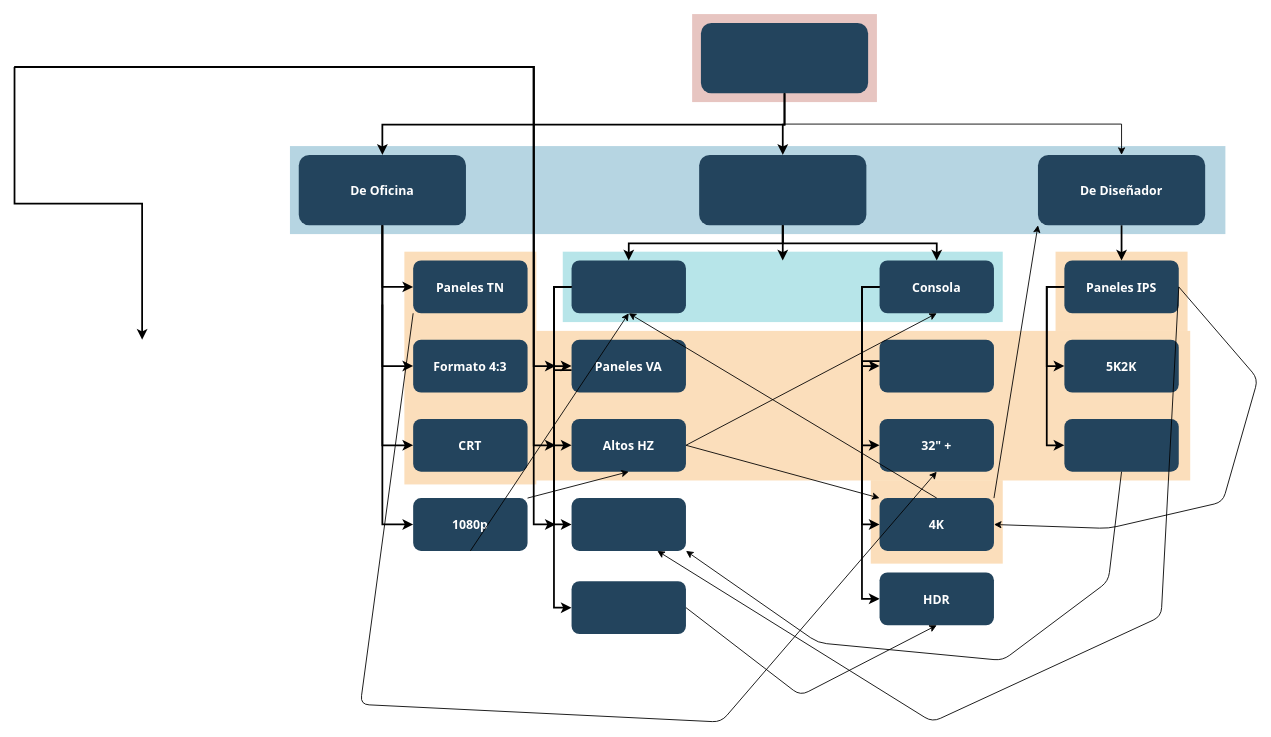
Image size: 1271x737. Some labels were removed from this diagram. The box of each missing label's shape, as (x1, y1, x2, y2) in pixels:
10 bit: (1064, 418, 1178, 471)
2K: (571, 581, 686, 634)
De Gaming: (699, 154, 866, 225)
Monitores: (700, 22, 868, 93)
Paneles OLED: (879, 339, 994, 392)
PC: (571, 260, 686, 313)
Ultrawide: (571, 498, 686, 550)
